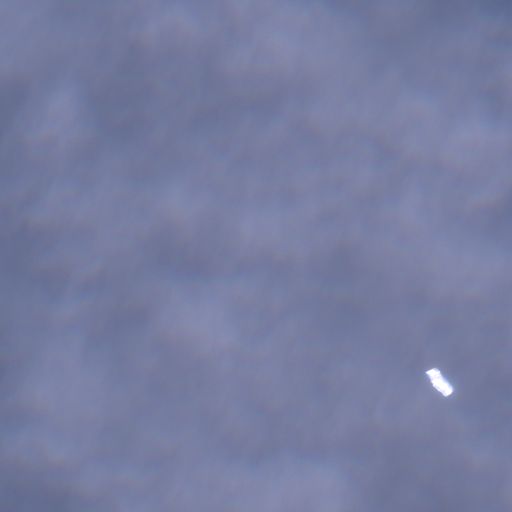Iceberg: (425, 367, 454, 397)
